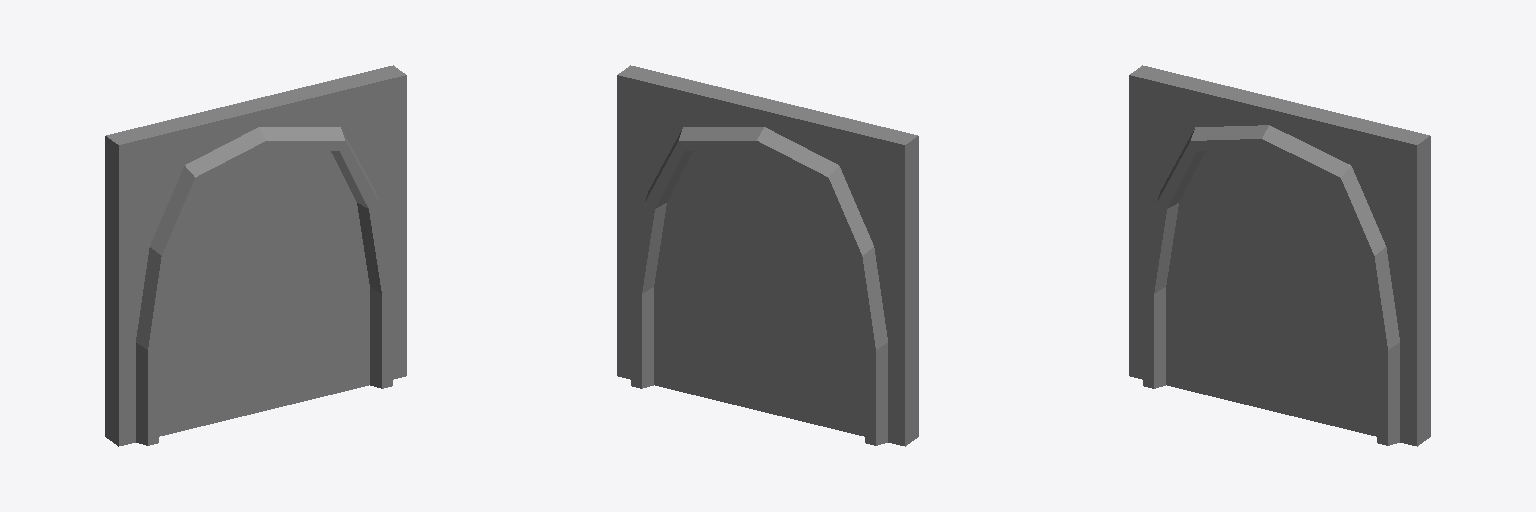
File: archDoorway.obj
3 views of the same model, side by side, from view 1: azimuth 30°, elevation 25°; view 2: azimuth 150°, elevation 25°; view 3: azimuth 330°, elevation 25° (orthographic).
Visible parts, largest first — view 1: Box001; view 2: Box001; view 3: Box001.
Part boxes in pixels (x1,y1,x2,y2): Box001: (105,65,406,446); Box001: (617,65,918,446); Box001: (1129,65,1430,446).
Size of the model in its own units: 1 by 1 by 0.1738.